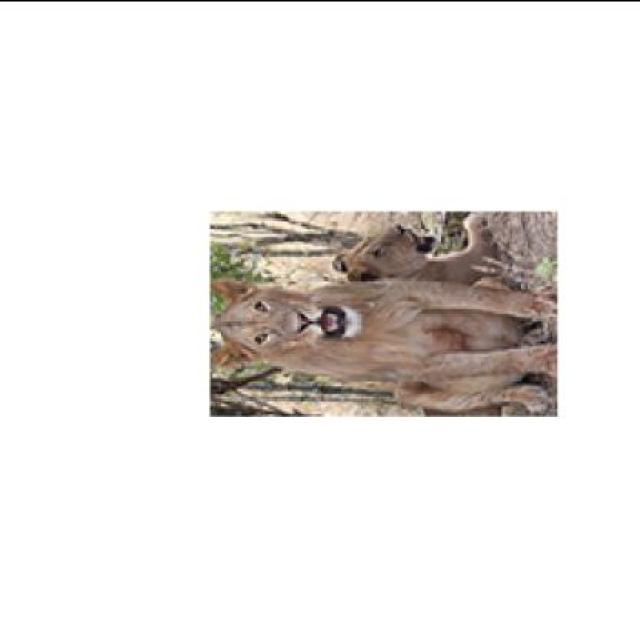Lion: (188, 198, 608, 417)
